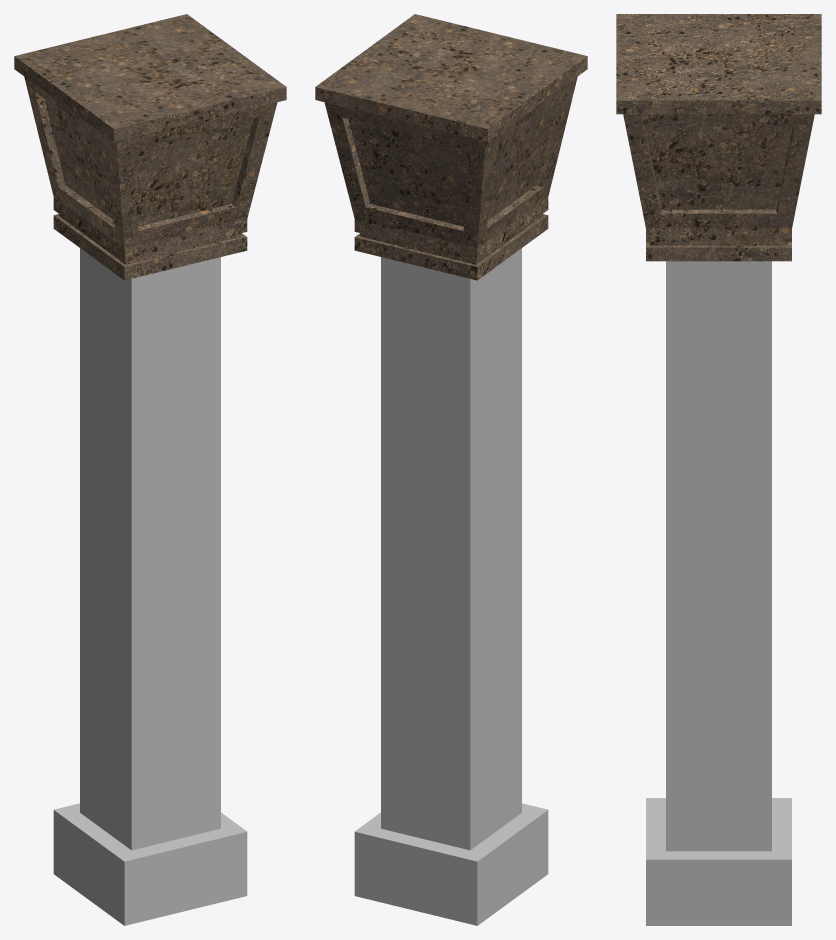
The model's file is ColumnSquare.fbx.
3 views of the same model, side by side, from view 1: azimuth 30°, elevation 25°; view 2: azimuth 150°, elevation 25°; view 3: azimuth 270°, elevation 25° (orthographic). The views are drawn at different scales.
Visible parts, largest first — view 1: ColumnSquare; view 2: ColumnSquare; view 3: ColumnSquare.
Boxes of the visible parts, x1=… form: ColumnSquare: x1=14, y1=14, x2=286, y2=925; ColumnSquare: x1=315, y1=14, x2=587, y2=925; ColumnSquare: x1=616, y1=14, x2=821, y2=925.
Size of the model in its own units: 140 by 632 by 140.
